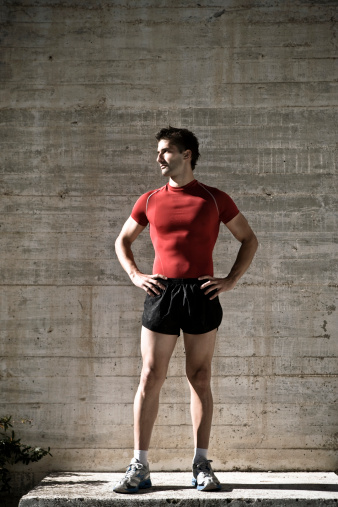em pe: (106, 115, 249, 502)
